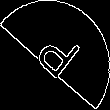P_SW: (27, 24, 83, 86)
